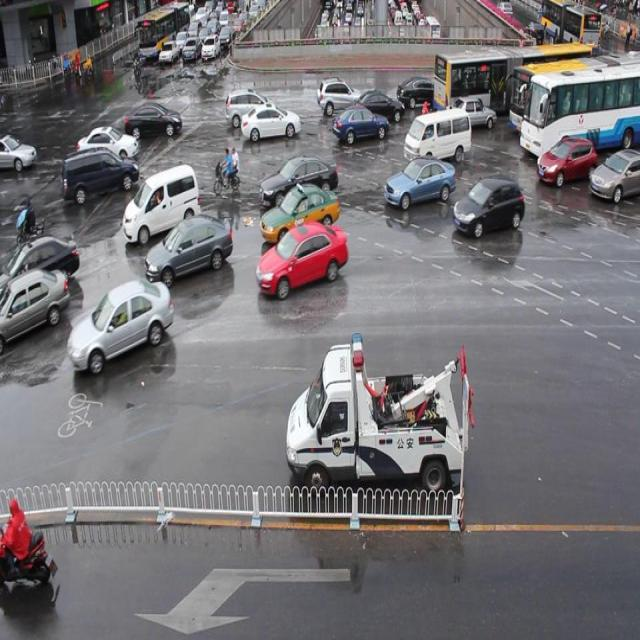bus: (285, 333, 472, 495)
car: (70, 281, 173, 371), (256, 220, 346, 297), (123, 164, 200, 244), (148, 216, 232, 284), (1, 268, 68, 348), (1, 234, 79, 295), (260, 186, 340, 241), (61, 149, 138, 202), (453, 177, 522, 234), (259, 155, 337, 205), (382, 157, 454, 208), (536, 137, 595, 185), (589, 152, 640, 202), (78, 124, 138, 160), (224, 87, 276, 128), (241, 104, 300, 140), (316, 76, 363, 117), (333, 106, 388, 141), (126, 103, 181, 138), (444, 94, 495, 130), (353, 88, 403, 123), (396, 77, 451, 108)
truck: (404, 108, 471, 166)
van: (519, 70, 640, 158), (434, 44, 590, 112), (508, 58, 640, 134)
